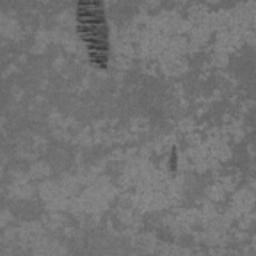Secondary rust skin: (75, 0, 110, 69), (168, 145, 176, 170)
